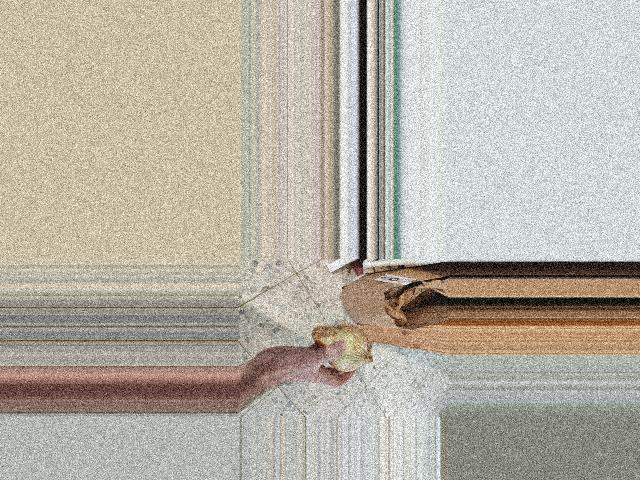onion: (307, 321, 374, 379)
